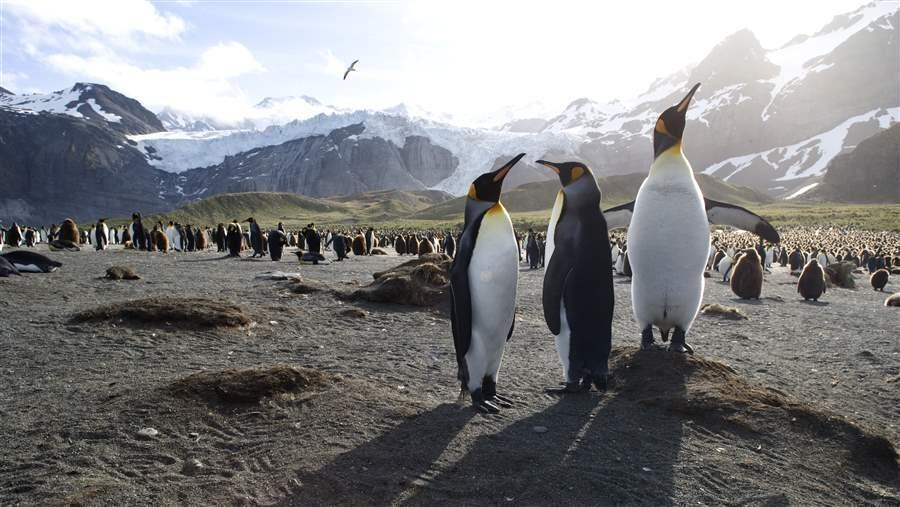Penguin: (603, 83, 778, 352), (450, 153, 522, 412), (539, 160, 613, 392), (735, 247, 765, 301), (0, 247, 63, 272), (796, 256, 826, 300), (245, 215, 269, 258), (323, 230, 350, 264), (129, 210, 148, 250), (265, 227, 285, 264), (96, 217, 114, 252), (148, 223, 169, 253), (524, 226, 539, 268), (288, 248, 324, 264), (615, 245, 634, 275), (174, 220, 190, 255), (305, 222, 324, 249), (868, 266, 887, 292), (230, 219, 244, 254), (536, 236, 549, 272), (61, 215, 78, 242), (440, 232, 457, 258), (711, 247, 728, 272), (352, 226, 366, 256), (50, 238, 78, 252), (404, 230, 418, 257), (366, 225, 379, 254), (787, 242, 800, 269), (185, 223, 196, 254), (277, 220, 290, 245), (215, 223, 227, 250), (9, 221, 23, 244), (418, 235, 434, 255), (721, 254, 735, 276), (777, 244, 789, 267), (323, 226, 334, 251), (865, 254, 878, 273), (194, 226, 205, 248), (394, 234, 405, 256), (431, 235, 443, 255), (24, 226, 36, 245), (166, 220, 174, 248), (838, 245, 851, 262), (765, 246, 775, 267), (885, 293, 899, 307), (109, 225, 119, 244), (295, 229, 306, 246), (205, 225, 213, 247), (90, 223, 97, 246), (882, 253, 892, 268), (118, 226, 127, 242), (611, 239, 619, 257), (290, 230, 297, 249), (849, 248, 858, 262), (819, 247, 826, 264), (49, 223, 55, 241), (39, 226, 46, 241), (892, 255, 900, 267), (830, 249, 836, 263), (83, 230, 88, 245)
